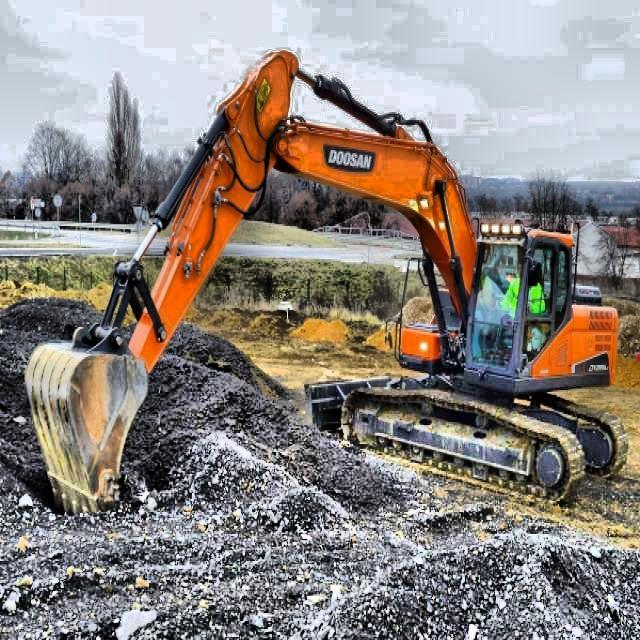bull_dozer/loader/grader: (25, 46, 630, 526)
person: (499, 256, 546, 330)
